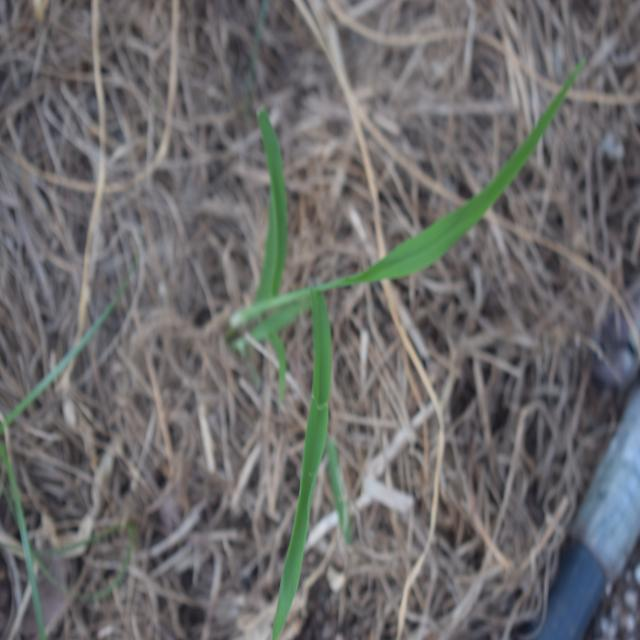crabgrass: (233, 100, 527, 587)
